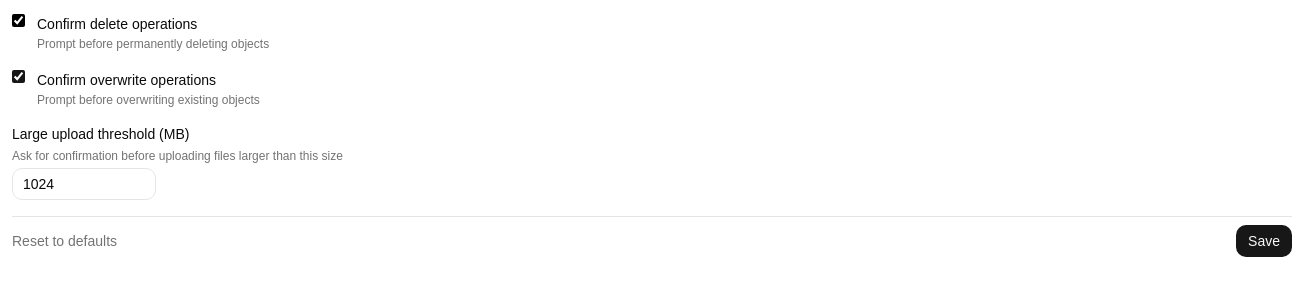
ConfirmationsPanel › shows validation error when large upload threshold is 0
Replace the text in the number field labelled "Large upload threshold (MB)" with "0" at (84,184), box [12, 168, 156, 200]
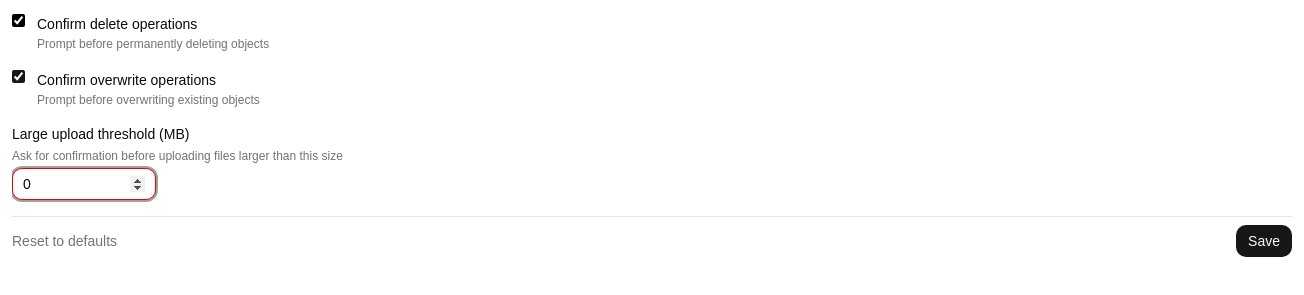
Click the button "Save" at (1264,241), box [1236, 225, 1292, 257]
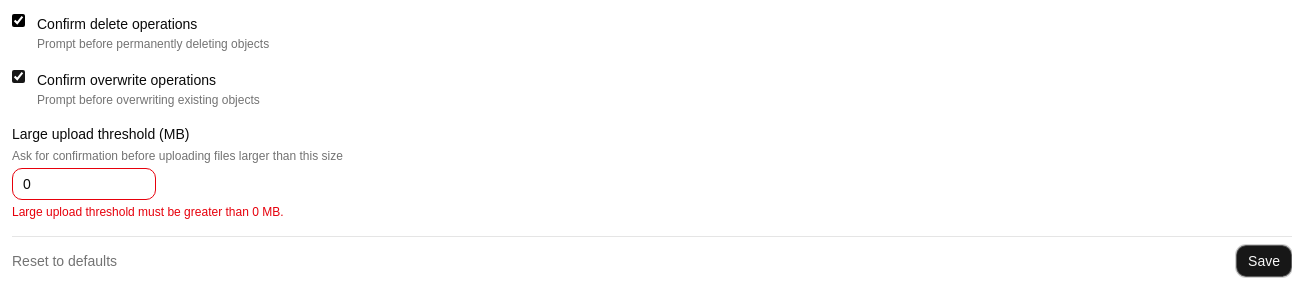
Expected: the text "Large upload threshold must be greater than 0 MB." is shown, [12, 205, 284, 219]
